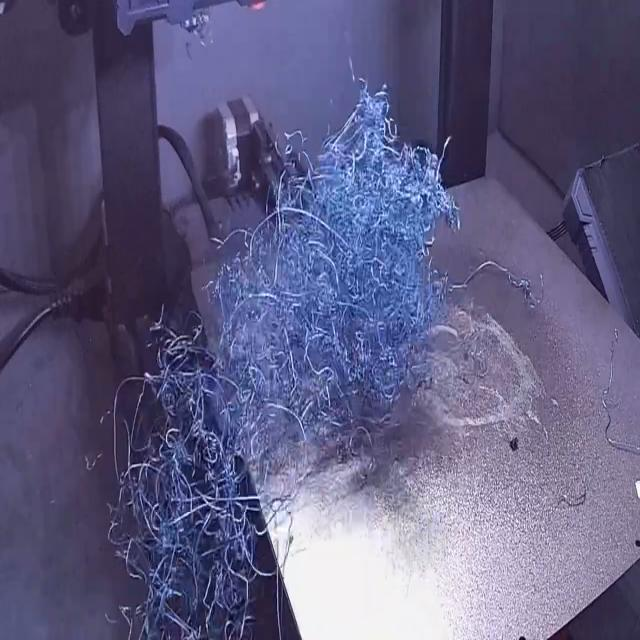spaghetti: (104, 55, 464, 640), (600, 322, 640, 479), (537, 483, 593, 517)
